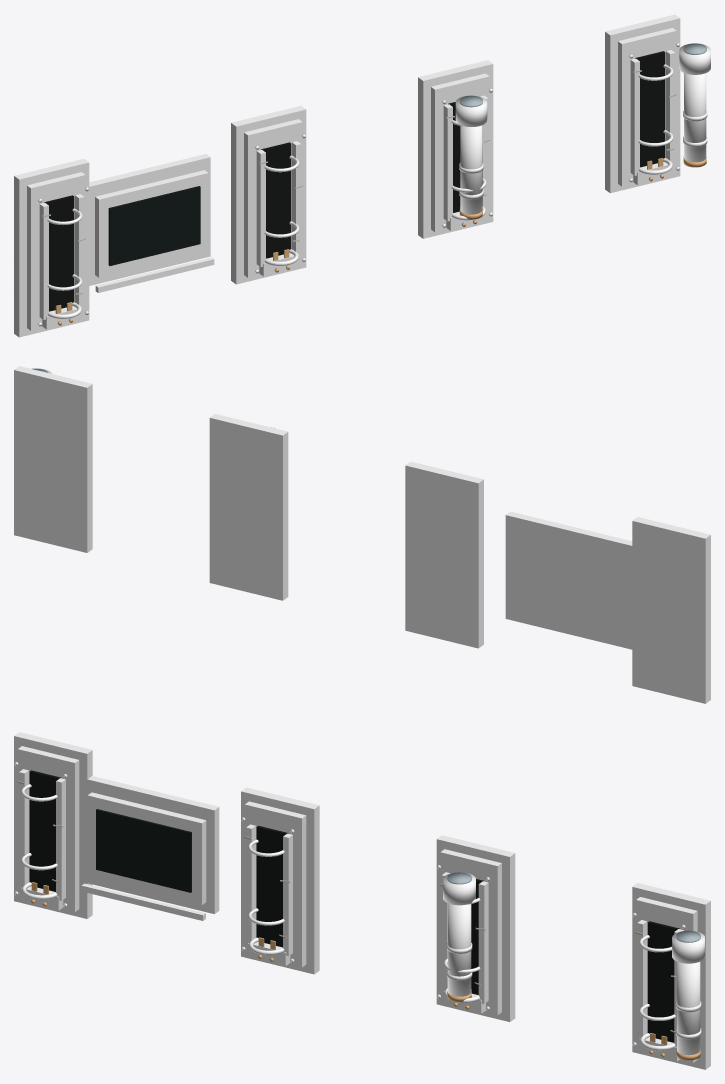
File: engine_room_flashlight_charging_dock.glb
3 views of the same model, one above another, from view 1: azimuth 30°, elevation 25°; view 2: azimuth 150°, elevation 25°; view 3: azimuth 330°, elevation 25° (orthographic). The views are drawn at different scales.
Parts seen in each view (by area): view 1: ER-09 screen reference dark display surface, ER-09 screen reference outer frame, inserted dock wall placement proxy, empty dock wall placement proxy, screen left placement dock wall placement proxy, removed dock wall placement proxy, ER-09 screen right-side placement reference wall patch, screen left placement armored charging dock backplate, empty armored charging dock backplate, removed armored charging dock backplate, inserted armored charging dock backplate, screen left placement dark vertical flashlight size recess (+16 smaller); view 2: ER-09 screen right-side placement reference wall patch, inserted dock wall placement proxy, removed dock wall placement proxy, screen left placement dock wall placement proxy, empty dock wall placement proxy; view 3: ER-09 screen reference dark display surface, ER-09 screen reference outer frame, ER-09 screen right-side placement reference wall patch, inserted dock wall placement proxy, empty dock wall placement proxy, empty armored charging dock backplate, screen left placement armored charging dock backplate, removed dock wall placement proxy, inserted armored charging dock backplate, screen left placement dock wall placement proxy, empty dark vertical flashlight size recess, screen left placement dark vertical flashlight size recess (+15 smaller).
Boxes of the visible parts, box(x1,y1,x2,y2) form: ER-09 screen reference dark display surface: box(108, 186, 200, 265); ER-09 screen reference outer frame: box(95, 170, 208, 277); inserted dock wall placement proxy: box(418, 60, 493, 238); empty dock wall placement proxy: box(231, 106, 306, 284); screen left placement dock wall placement proxy: box(14, 158, 89, 337); removed dock wall placement proxy: box(605, 14, 680, 193); ER-09 screen right-side placement reference wall patch: box(89, 154, 210, 285); screen left placement armored charging dock backplate: box(27, 172, 85, 330); empty armored charging dock backplate: box(244, 119, 302, 277); removed armored charging dock backplate: box(618, 28, 676, 186); inserted armored charging dock backplate: box(431, 73, 489, 232); screen left placement dark vertical flashlight size recess: box(44, 195, 74, 311); ER-09 screen right-side placement reference wall patch: box(505, 511, 632, 649); inserted dock wall placement proxy: box(209, 414, 288, 600); removed dock wall placement proxy: box(14, 366, 92, 552); screen left placement dock wall placement proxy: box(632, 517, 710, 703); empty dock wall placement proxy: box(405, 461, 483, 648); ER-09 screen reference dark display surface: box(96, 809, 191, 892); ER-09 screen reference outer frame: box(87, 792, 206, 904); ER-09 screen right-side placement reference wall patch: box(87, 776, 219, 913); inserted dock wall placement proxy: box(436, 835, 515, 1021); empty dock wall placement proxy: box(241, 787, 319, 974); empty armored charging dock backplate: box(244, 801, 306, 967); screen left placement armored charging dock backplate: box(17, 746, 79, 911); removed dock wall placement proxy: box(632, 883, 710, 1069); inserted armored charging dock backplate: box(440, 849, 501, 1015); screen left placement dock wall placement proxy: box(14, 732, 92, 918); empty dark vertical flashlight size recess: box(256, 826, 288, 947); screen left placement dark vertical flashlight size recess: box(29, 770, 60, 891).
Size of the model in its own units: 10.1 by 2.26 by 0.7425.
